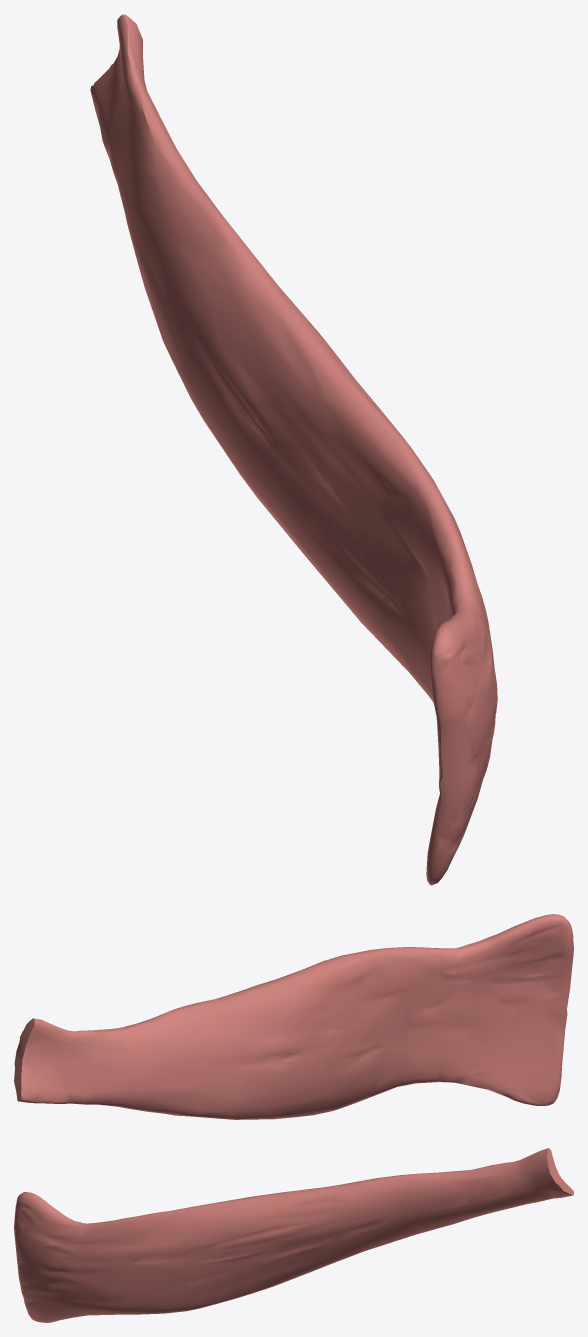
Rendered from fma49056_fj1359.glb.
The picture shows the model from 3 angles, top to bottom: view 1: azimuth 30°, elevation 25°; view 2: azimuth 150°, elevation 25°; view 3: azimuth 270°, elevation 25°; orthographic projection. The views are drawn at different scales.
Parts seen in each view (by area): view 1: FMA49056_FJ1359; view 2: FMA49056_FJ1359; view 3: FMA49056_FJ1359.
Part boxes in pixels (<box>): FMA49056_FJ1359: <box>90,14,497,885</box>; FMA49056_FJ1359: <box>14,914,573,1119</box>; FMA49056_FJ1359: <box>14,1148,573,1322</box>.
Bounding box in the file's own units: 0.01 × 0.0177 × 0.0402.
